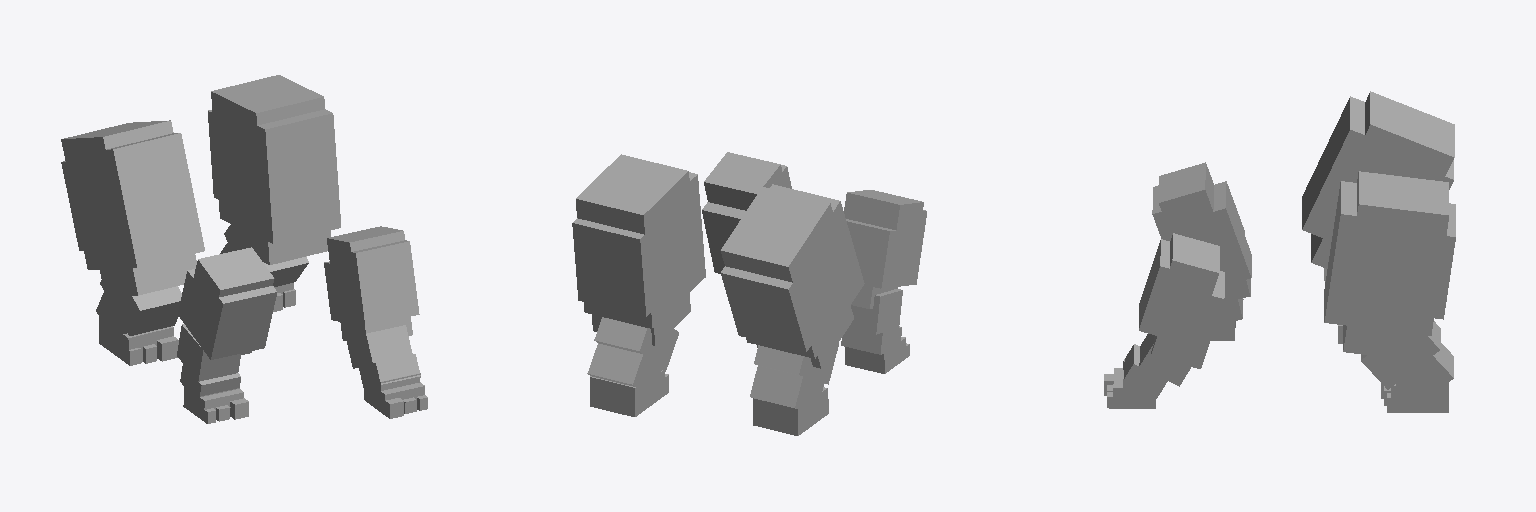
3 renders of one model, left to right at view 1: azimuth 30°, elevation 25°; view 2: azimuth 150°, elevation 25°; view 3: azimuth 270°, elevation 25°, orthographic.
Parts seen in each view (by area): view 1: Model; view 2: Model; view 3: Model.
Part boxes in pixels (x1,y1,x2,y2): Model: (61, 75, 427, 423); Model: (572, 152, 926, 435); Model: (1104, 91, 1455, 412).
Bounding box in the file's own units: 76 × 75.64 × 108.
Materials: 1 (1 with a texture image).